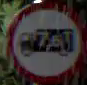Heavy Vehicles: (5, 0, 83, 83)
